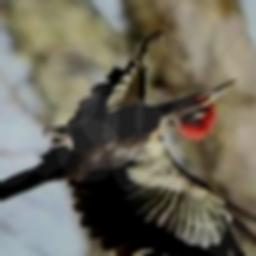Woodpecker: (0, 33, 256, 256)
